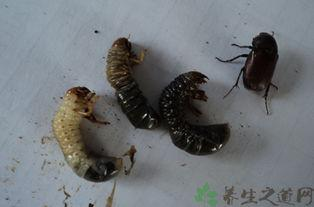grub: (46, 84, 136, 183)
